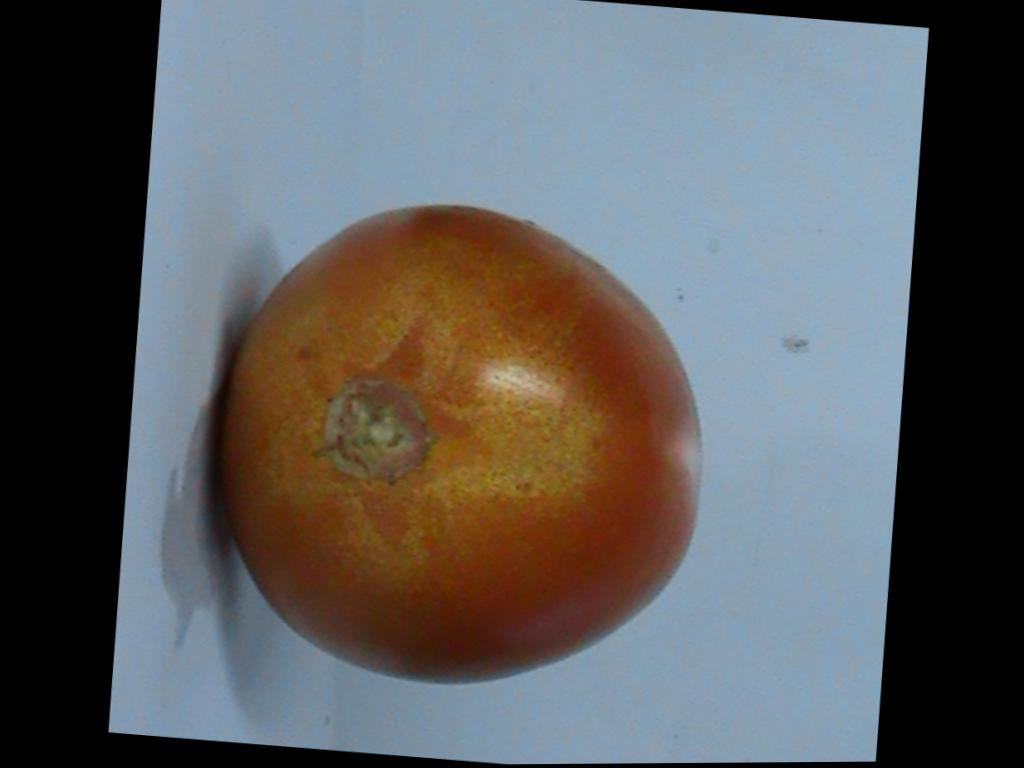bruise_discoloration: (231, 235, 600, 588)
tomato: (222, 207, 697, 683)
